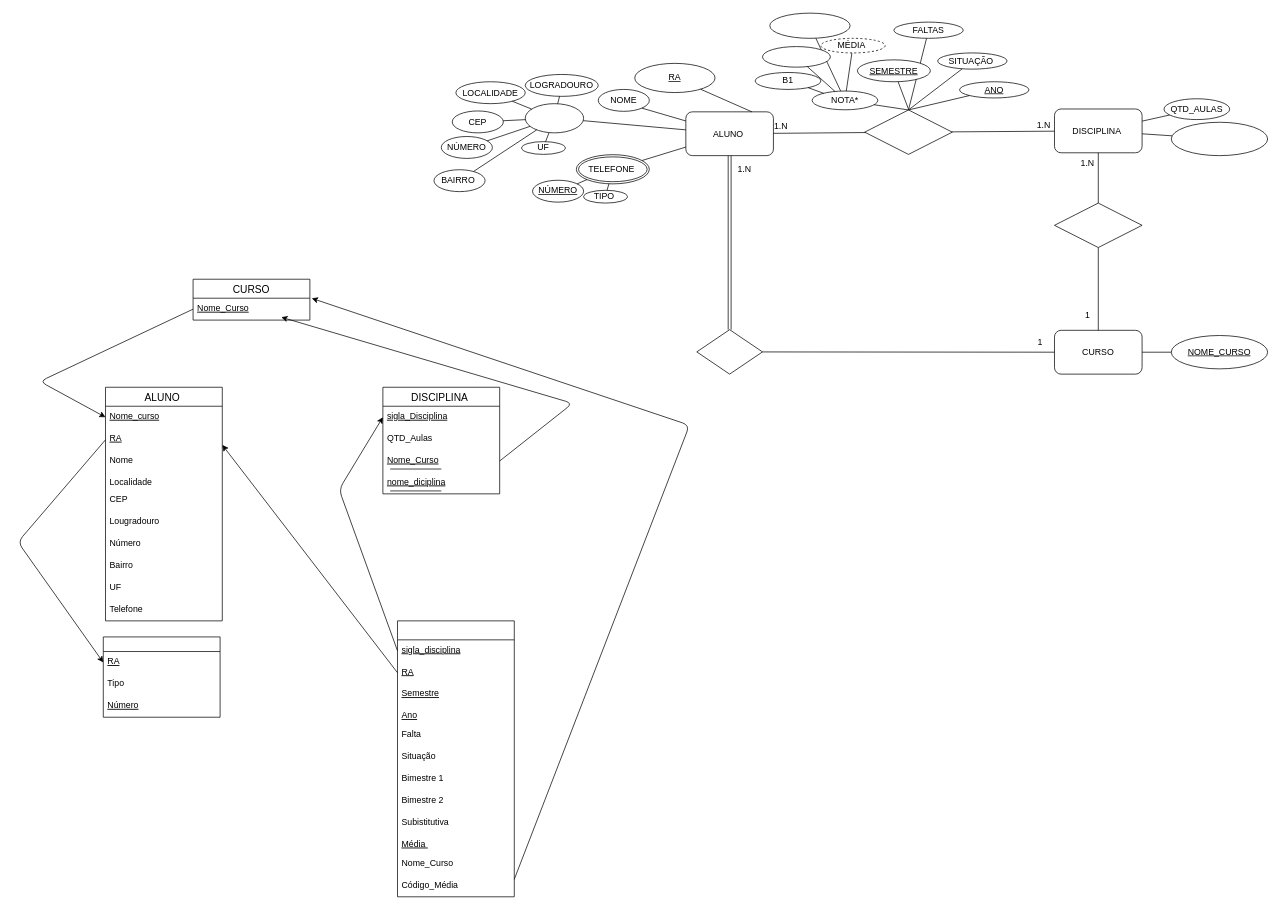
Image size: 1280x911. Some labels were removed from this diagram. The box of each missing label's shape, as (x1, y1, x2, y2) in pixels:
B2: (762, 46, 830, 67)
ENDEREÇO: (525, 103, 584, 133)
Matriculado: (397, 620, 514, 897)
MATRÍCULADO: (864, 109, 952, 154)
NOME_DISCIPLINA: (1171, 122, 1268, 156)
OFERECE: (1054, 202, 1142, 248)
PERTENCE: (696, 329, 762, 374)
SUBSTITUTIVA: (769, 12, 850, 38)
Telefone_Aluno: (103, 636, 220, 717)
